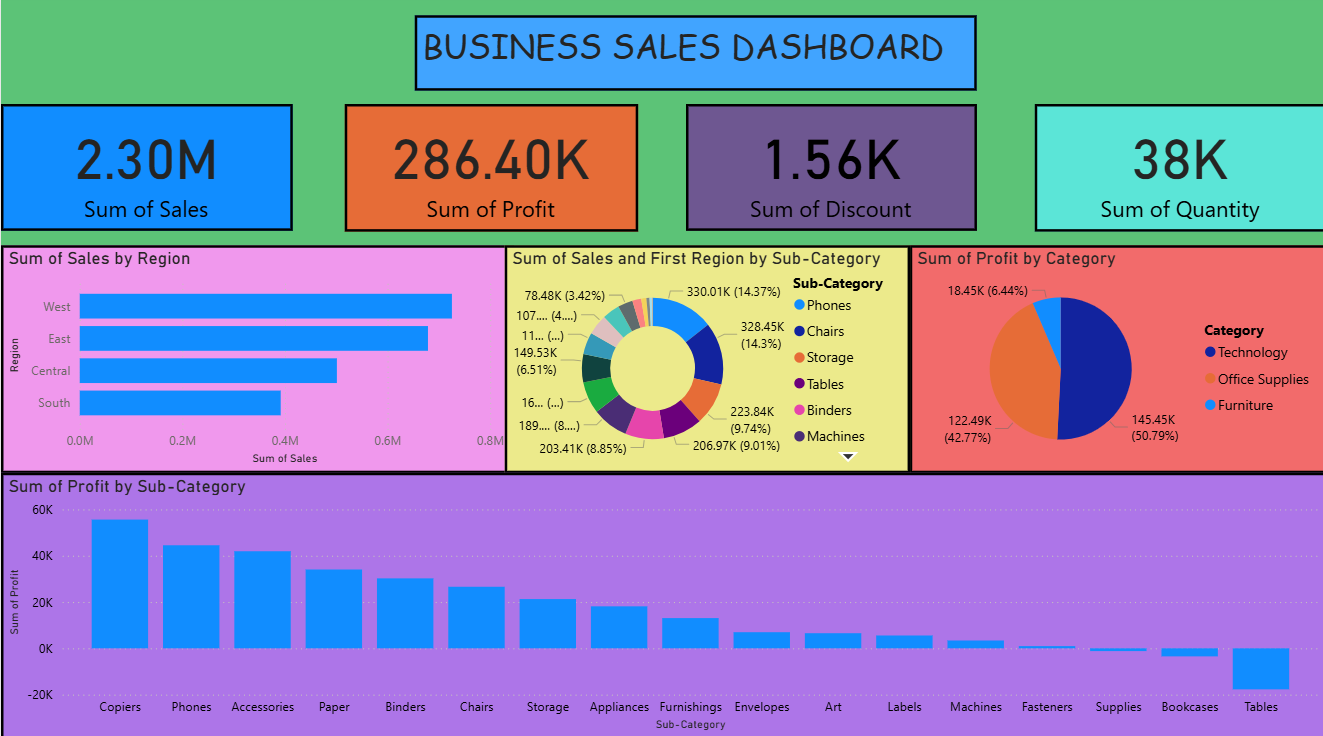

The page's visual inventory and layout, read from the dashboard file:
{"tool":"powerbi","page":{"name":"Page 1","canvas":[1280,720],"ordinal":0},"visuals":[{"type":"card","fields":{"Values":["Sum(Orders.Sales)"]},"box":[0,106.5,281.9,122.2],"z":0},{"type":"card","fields":{"Values":["Sum(Orders.Profit)"]},"box":[331.6,106.5,283.2,123.4],"z":1000},{"type":"card","fields":{"Values":["Sum(Orders.Discount)"]},"box":[660.7,106.5,280.7,122.2],"z":2000},{"type":"card","fields":{"Values":["Sum(Orders.Quantity)"]},"box":[998.3,106.5,281.9,123.4],"z":3000},{"type":"clusteredBarChart","fields":{"Category":["Orders.Region"],"Y":["Sum(Orders.Sales)"]},"box":[0,242,494.9,220.2],"z":4000},{"type":"textbox","box":[399.6,20,542.7,72.9],"z":5000},{"type":"pieChart","fields":{"Category":["Orders.Category"],"Y":["Sum(Orders.Profit)"]},"box":[877.3,242,402.9,220.2],"z":6000},{"type":"donutChart","fields":{"Category":["Orders.Sub-Category"],"Y":["Sum(Orders.Sales)"]},"box":[486.4,242,390.8,220.2],"z":7000},{"type":"columnChart","fields":{"Category":["Orders.Sub-Category"],"Y":["Sum(Orders.Profit)"]},"box":[0,462.2,1280.2,257.7],"z":8000}]}

Visuals, with their boxes in screenshot pixels (x1, y1, x2, y2), scaled from the page's 1280x720 canvas onto the 1323x736 screenshot:
card - Sum(Orders.Sales): box(0, 109, 291, 234)
card - Sum(Orders.Profit): box(343, 109, 635, 235)
card - Sum(Orders.Discount): box(683, 109, 973, 234)
card - Sum(Orders.Quantity): box(1032, 109, 1322, 235)
clusteredBarChart - Orders.Region x Sum(Orders.Sales): box(0, 247, 512, 472)
textbox: box(413, 20, 974, 95)
pieChart - Orders.Category x Sum(Orders.Profit): box(907, 247, 1322, 472)
donutChart - Orders.Sub-Category x Sum(Orders.Sales): box(503, 247, 907, 472)
columnChart - Orders.Sub-Category x Sum(Orders.Profit): box(0, 472, 1322, 735)
